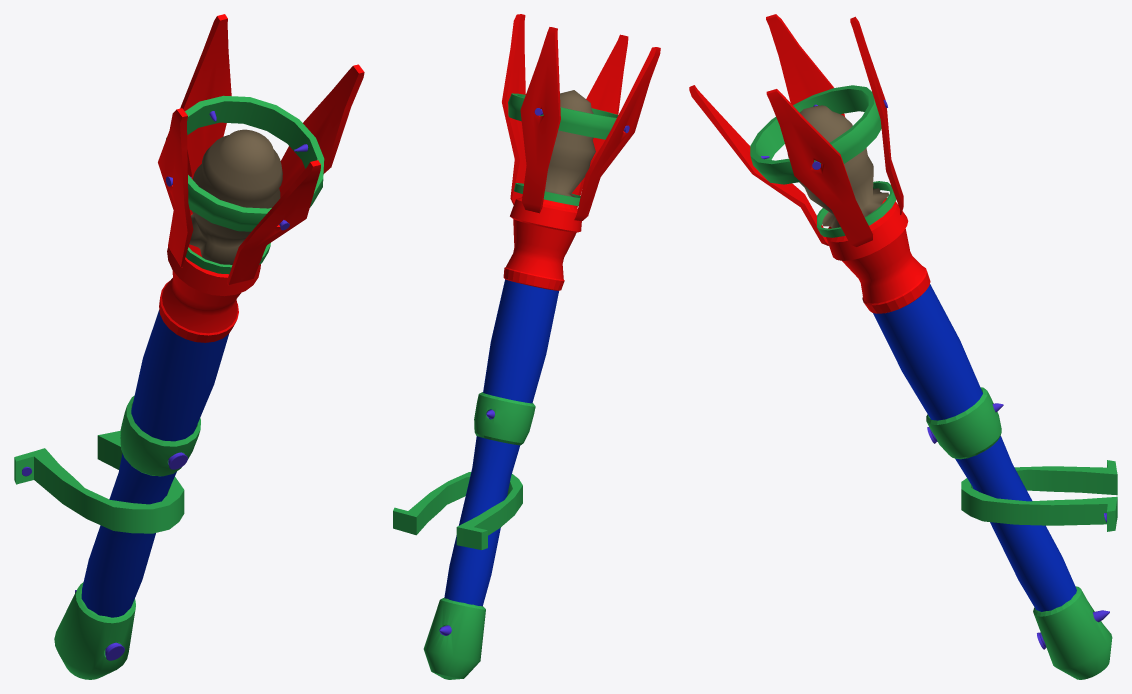
The model's file is WallTorchLowMesh.fbx.
3 views of the same model, side by side, from view 1: azimuth 30°, elevation 25°; view 2: azimuth 150°, elevation 25°; view 3: azimuth 270°, elevation 25° (orthographic). The views are drawn at different scales.
Visible parts, largest first — view 1: WallTorch_Low01, WallTorch_Low00, WallTorch_Low22, WallTorch_Low20, WallTorch_Low18, WallTorch_Low21, WallTorch_Low02, WallTorch_Low17, WallTorch_Low19; view 2: WallTorch_Low00, WallTorch_Low01, WallTorch_Low21, WallTorch_Low20, WallTorch_Low02, WallTorch_Low22, WallTorch_Low17, WallTorch_Low18, WallTorch_Low19; view 3: WallTorch_Low01, WallTorch_Low00, WallTorch_Low20, WallTorch_Low21, WallTorch_Low18, WallTorch_Low02, WallTorch_Low22, WallTorch_Low17, WallTorch_Low19.
Boxes of the visible parts, x1,y1,x2,y2 form: WallTorch_Low01: (81, 310, 228, 617); WallTorch_Low00: (158, 14, 364, 285); WallTorch_Low22: (189, 129, 282, 264); WallTorch_Low20: (14, 430, 184, 533); WallTorch_Low18: (166, 95, 324, 231); WallTorch_Low21: (159, 214, 260, 342); WallTorch_Low02: (54, 582, 135, 679); WallTorch_Low17: (120, 395, 200, 476); WallTorch_Low19: (185, 243, 270, 274); WallTorch_Low00: (502, 14, 660, 220); WallTorch_Low01: (444, 279, 558, 606); WallTorch_Low21: (503, 197, 581, 290); WallTorch_Low20: (393, 472, 522, 549); WallTorch_Low02: (423, 597, 485, 679); WallTorch_Low22: (545, 90, 595, 197); WallTorch_Low17: (474, 392, 535, 445); WallTorch_Low18: (508, 93, 618, 139); WallTorch_Low19: (514, 183, 580, 205); WallTorch_Low01: (873, 284, 1076, 611); WallTorch_Low00: (689, 14, 903, 246); WallTorch_Low20: (961, 460, 1117, 531); WallTorch_Low21: (826, 198, 930, 313); WallTorch_Low18: (750, 85, 881, 184); WallTorch_Low02: (1033, 586, 1112, 679); WallTorch_Low22: (787, 105, 888, 228); WallTorch_Low17: (926, 387, 1001, 459); WallTorch_Low19: (816, 181, 896, 237).
Bounding box in the file's own units: 95.98 × 377 × 223.
